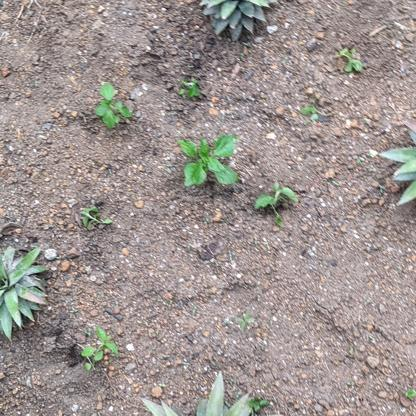pineapple: (140, 372, 260, 416), (1, 241, 50, 344), (200, 1, 282, 43), (378, 133, 416, 207)
weed: (178, 131, 241, 190), (91, 80, 134, 131), (78, 325, 119, 368), (254, 182, 301, 218)
